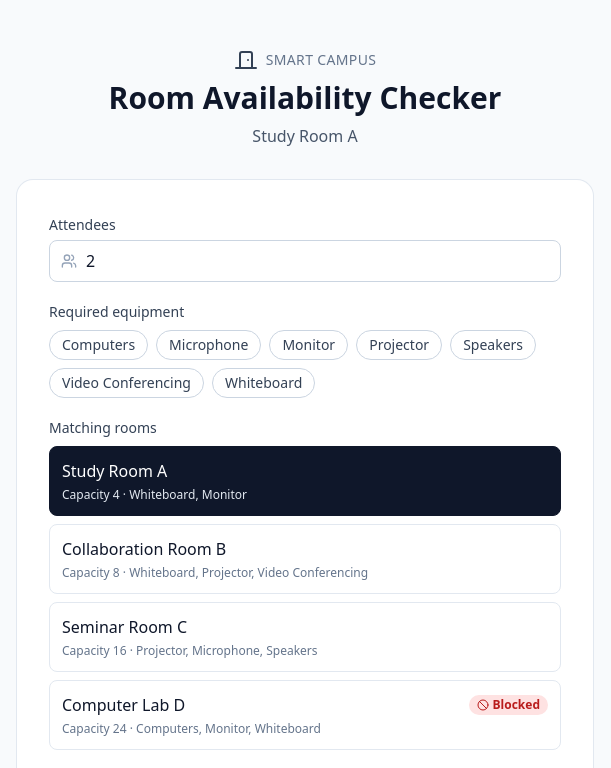
Test: App room availability UI › switches to Available when Collaboration Room B is selected for the same times
This screenshot has width=611, height=768.
Click the button "Study Room A Capacity 4 · Whiteboard, Monitor": {"x": 115, "y": 471} [49,446,561,516]
(page scrolled)
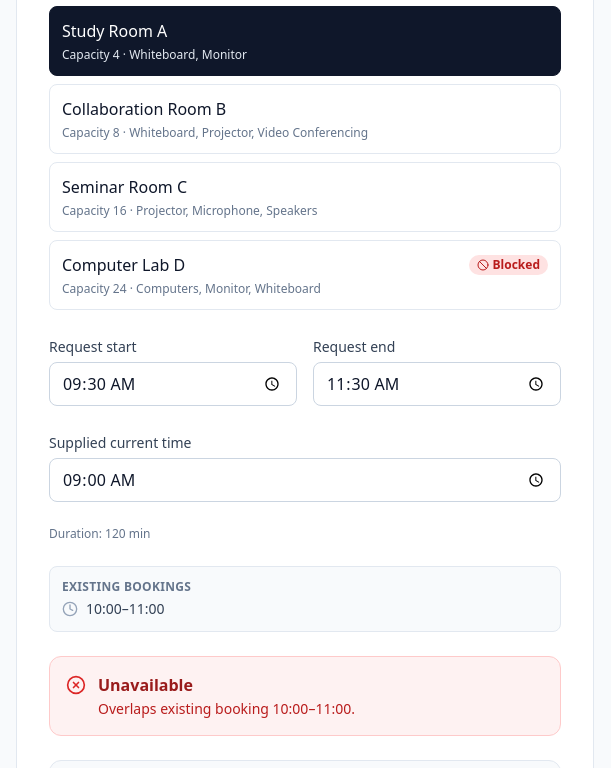
Replace the text in the time field labelled "Request start" with "10:30": {"x": 173, "y": 384} [49,362,297,406]
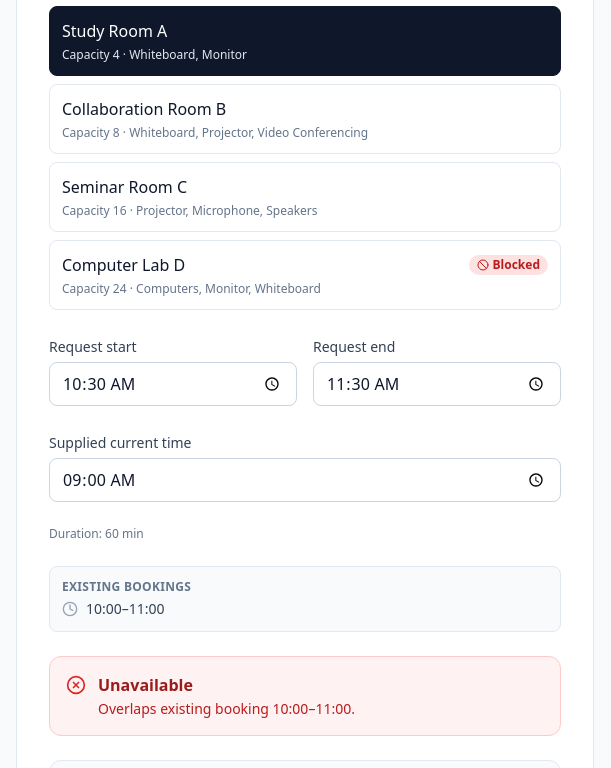
Replace the text in the time field labelled "Request end" with "11:00": {"x": 437, "y": 384} [313,362,561,406]
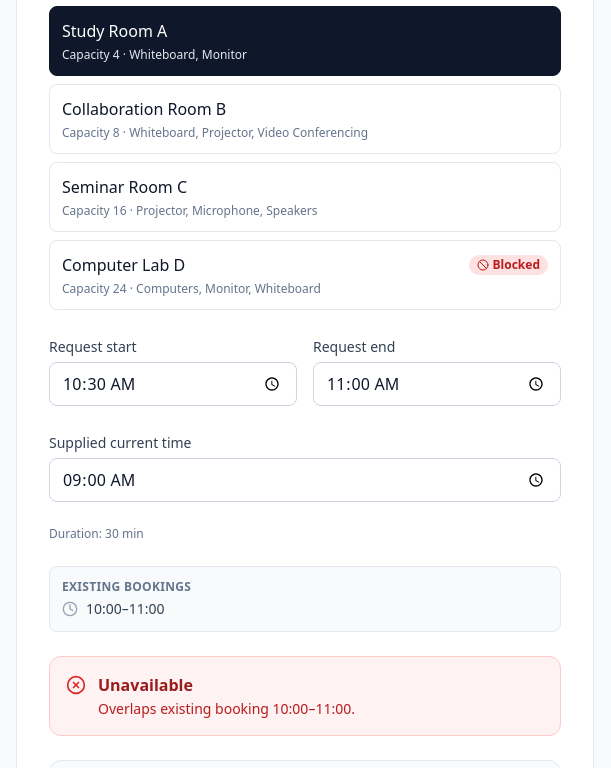
Expected: the text "Unavailable" is shown, [98,674,193,696]
Click the button "Collaboration Room B": {"x": 144, "y": 109} [49,84,561,154]
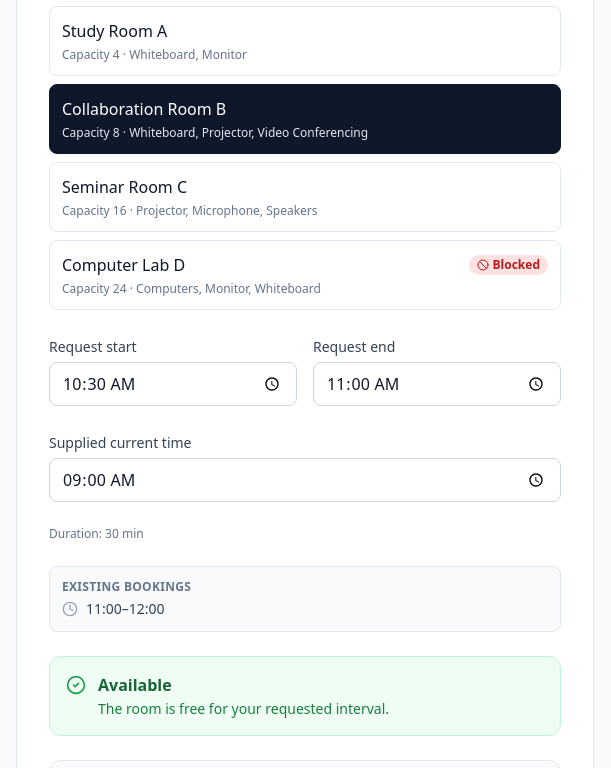
Expected: the text "Available" is shown, [98,674,172,696]
Expected: the text "Unavailable" is gone
